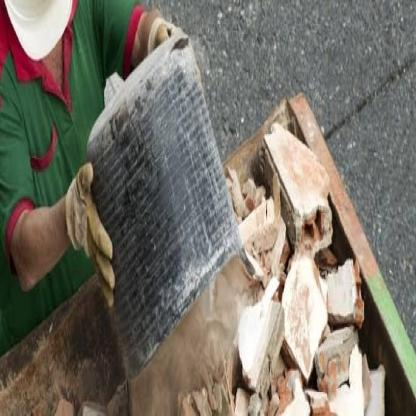brick: (55, 122, 387, 414)
